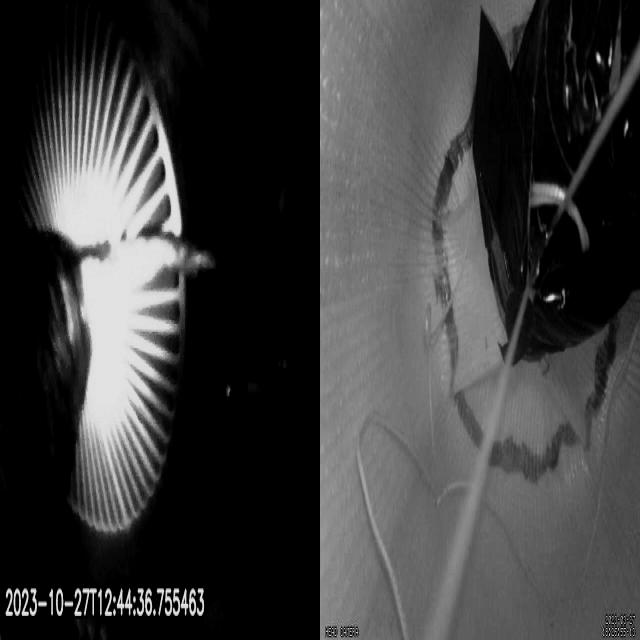red-circle: (431, 23, 622, 481)
